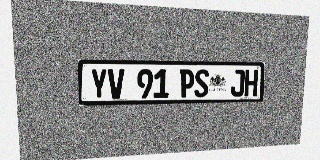1: (153, 69, 169, 98)
9: (137, 69, 153, 98)
H: (244, 70, 258, 96)
J: (231, 70, 245, 97)
P: (179, 69, 194, 98)
S: (194, 69, 209, 97)
V: (108, 69, 124, 99)
Y: (90, 68, 107, 99)
